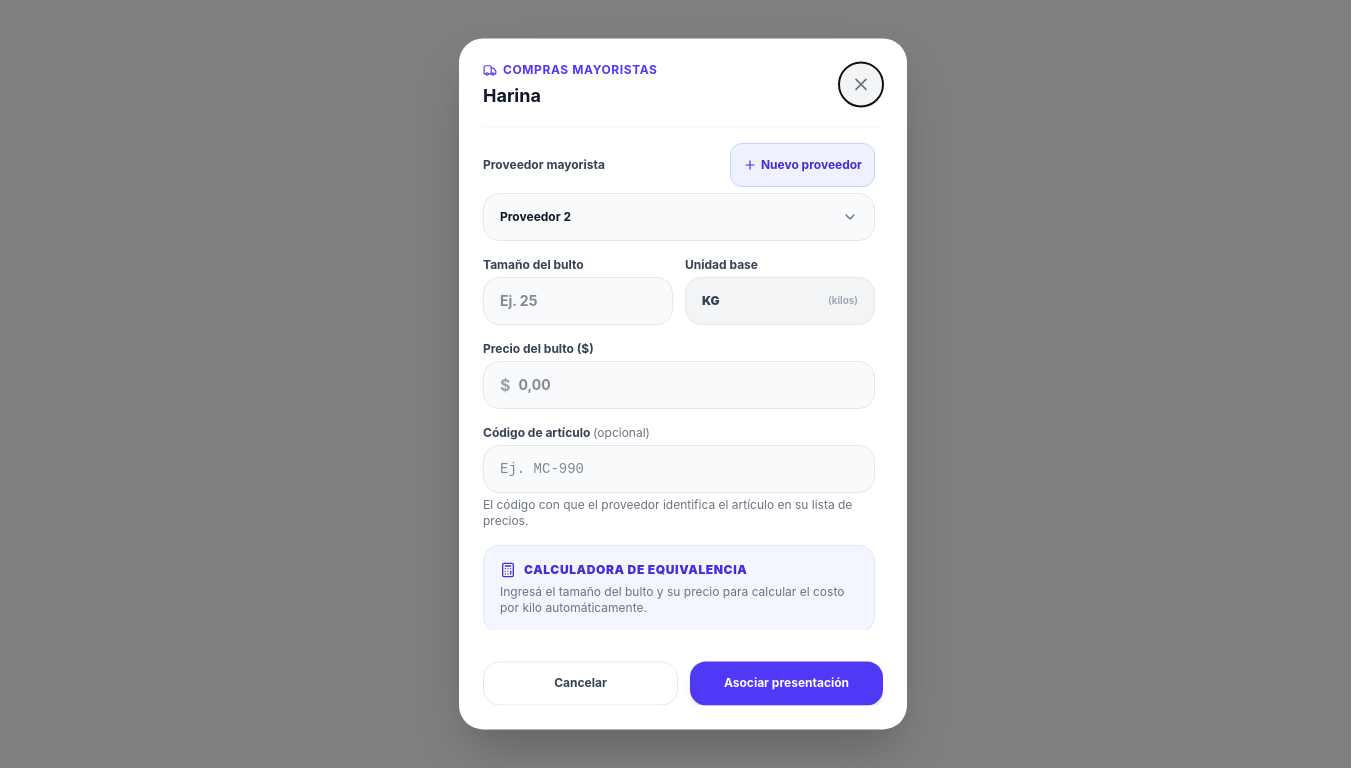
Test: SupplierPackagingModal › Escenario Gherkin: muestra errores junto al campo y enfoca el primero al fallar la validación
Clear the field labelled "Precio del bulto ($)" at (688, 385), box [518, 375, 858, 395]
Click the button "Asociar presentación" at (786, 684), box [690, 662, 883, 706]
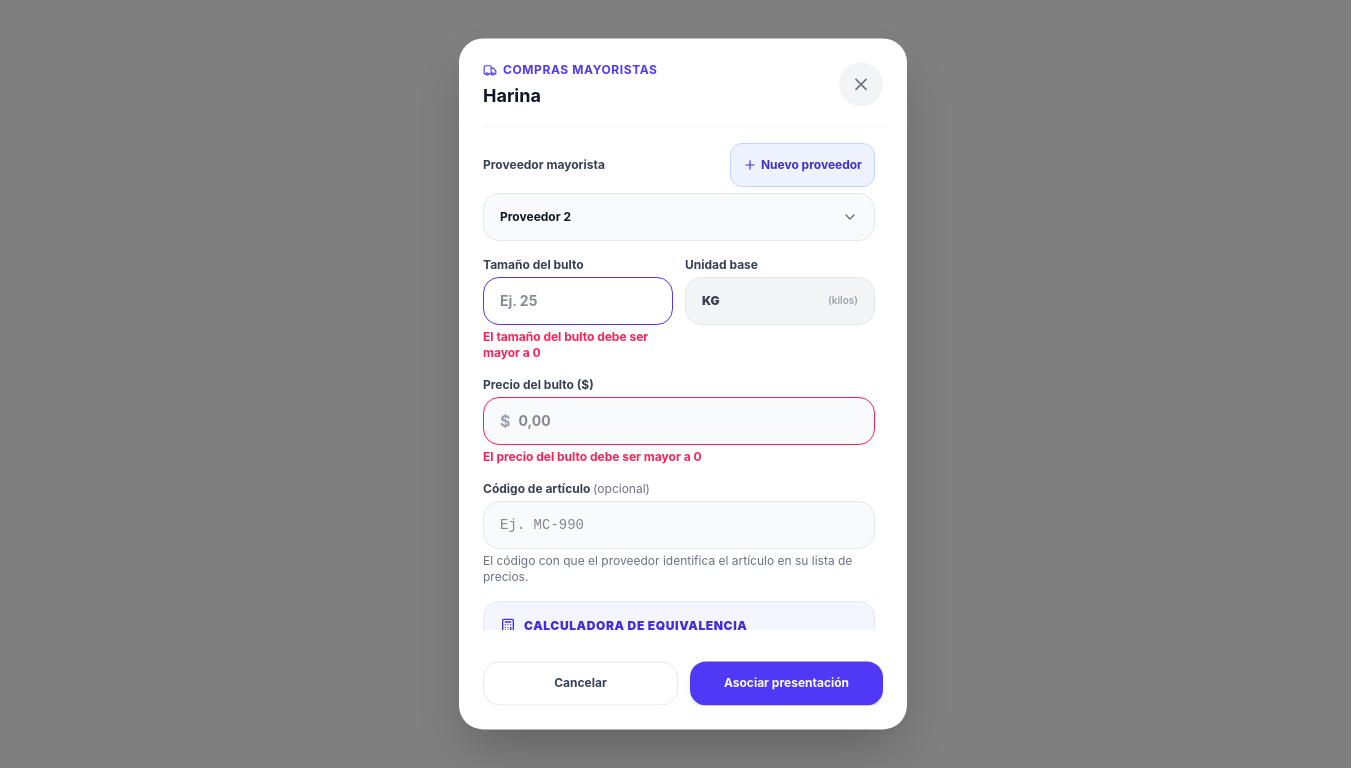
expect the text "El tamaño del bulto debe ser mayor a 0" is shown: met, box [483, 329, 673, 361]
expect the text "El precio del bulto debe ser mayor a 0" is shown: met, box [483, 449, 702, 464]
